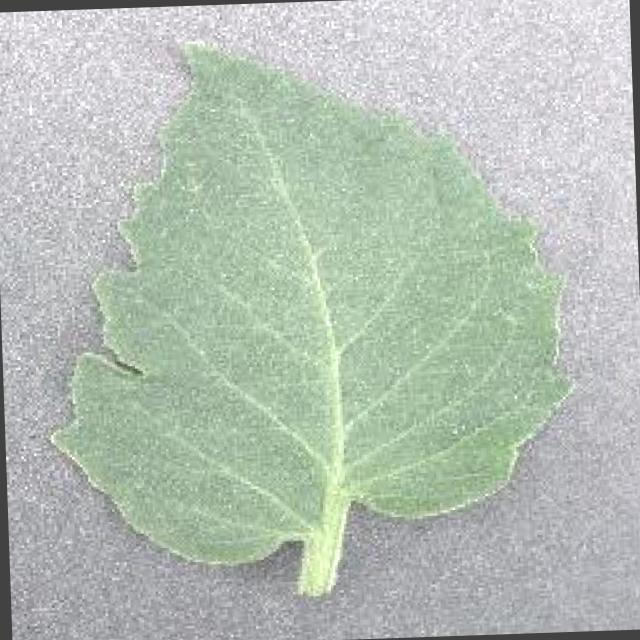healthy: (44, 29, 567, 588)
